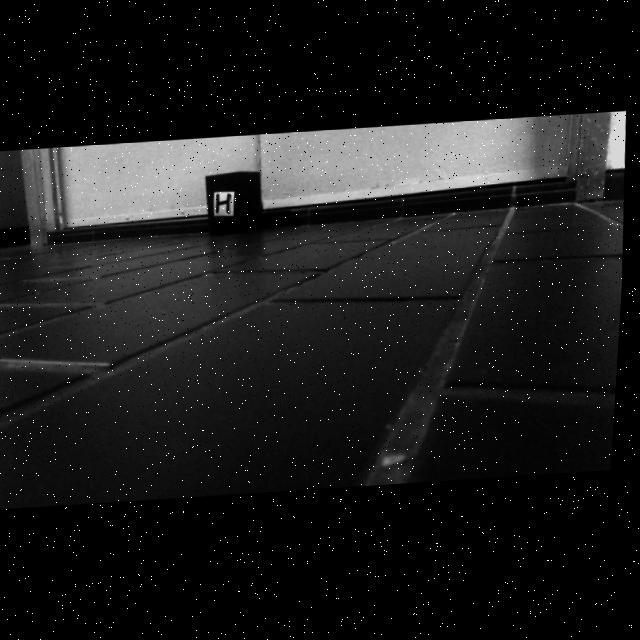H: (219, 195, 232, 215)
